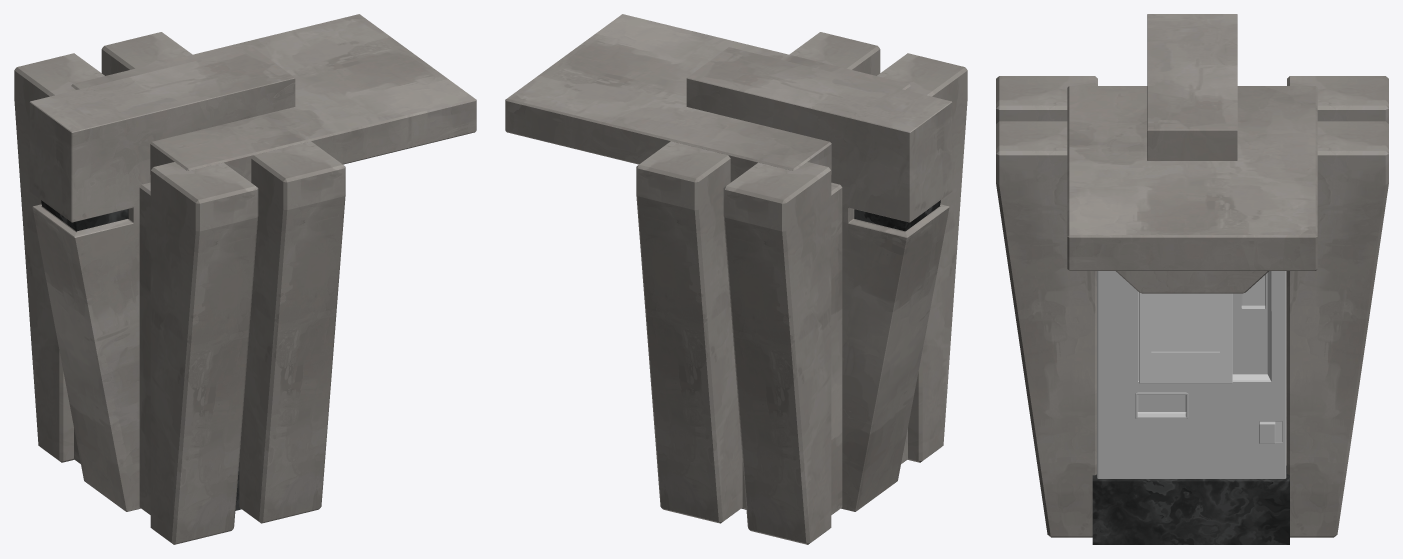
The model's file is MESH_TicketMachine_slim.fbx.
3 views of the same model, side by side, from view 1: azimuth 30°, elevation 25°; view 2: azimuth 150°, elevation 25°; view 3: azimuth 270°, elevation 25° (orthographic). The views are drawn at different scales.
Parts seen in each view (by area): view 1: Cube.067; view 2: Cube.067; view 3: Cube.067, Cube.020.
Part boxes in pixels (<box>): Cube.067: <box>14,14,476,544</box>; Cube.067: <box>505,14,967,544</box>; Cube.067: <box>996,14,1388,537</box>; Cube.020: <box>1092,271,1289,544</box>.
Bounding box in the file's own units: 259 × 265 × 225.
